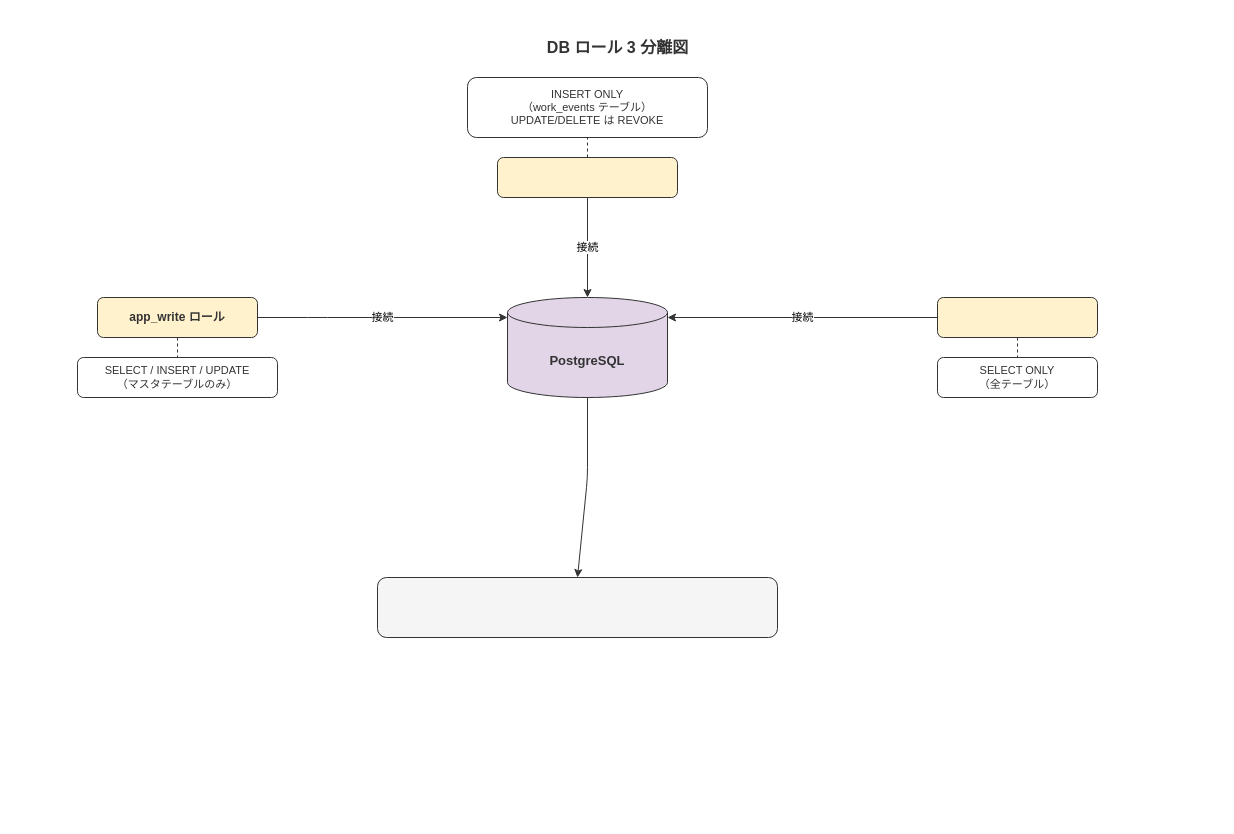
Some shapes in this 1234 by 834 pixel diagram are drawn without their labels. The box of each missing label's shape, as (x1, y1, x2, y2) in pixels:
app_event_insert ロール: (496, 156, 678, 198)
app_read ロール: (936, 296, 1098, 338)
接続プール分離 各ロールは独立した接続プールで管理 アプリは用途に応じたロールを使用する: (376, 576, 778, 638)
